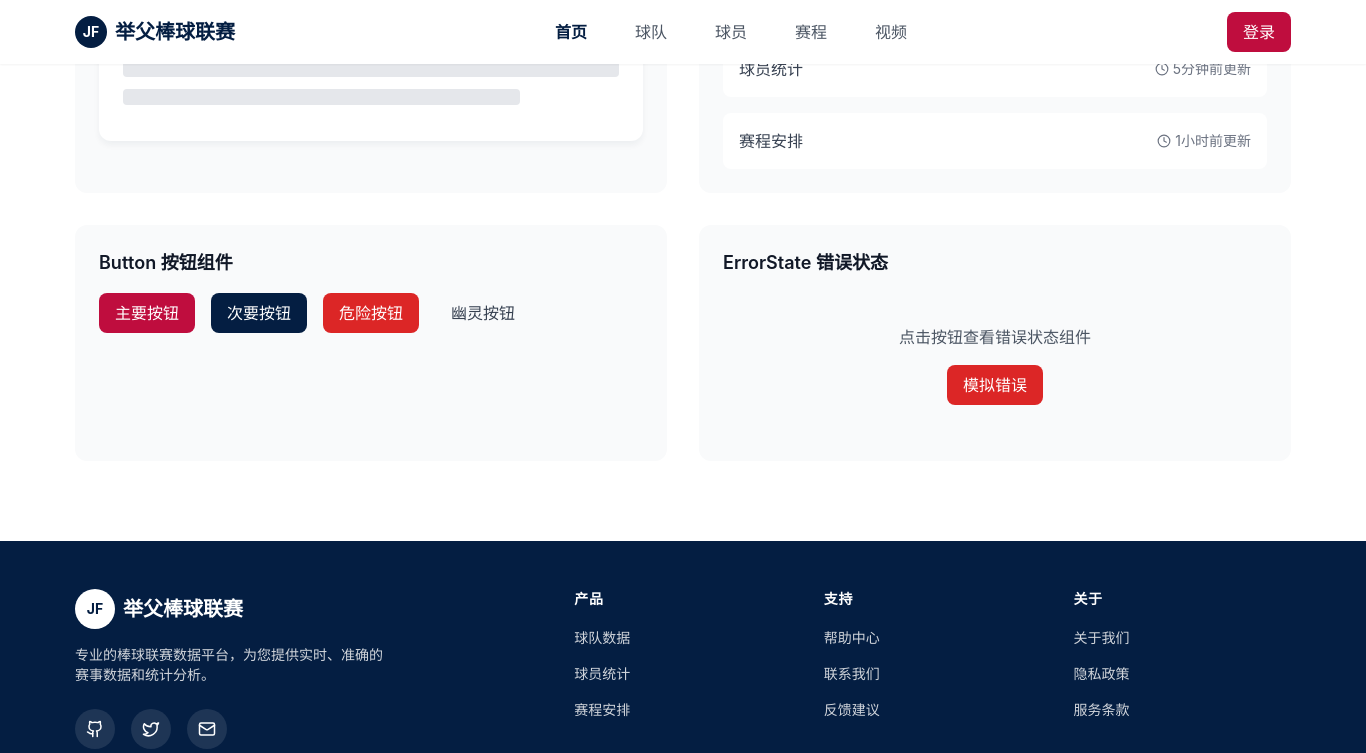
Test: HomePage › shows error state when simulate error is clicked
The width and height of the screenshot is (1366, 753).
(page scrolled)
Click the button "模拟错误": (995, 385) x1=947 y1=365 x2=1043 y2=405
(page scrolled)
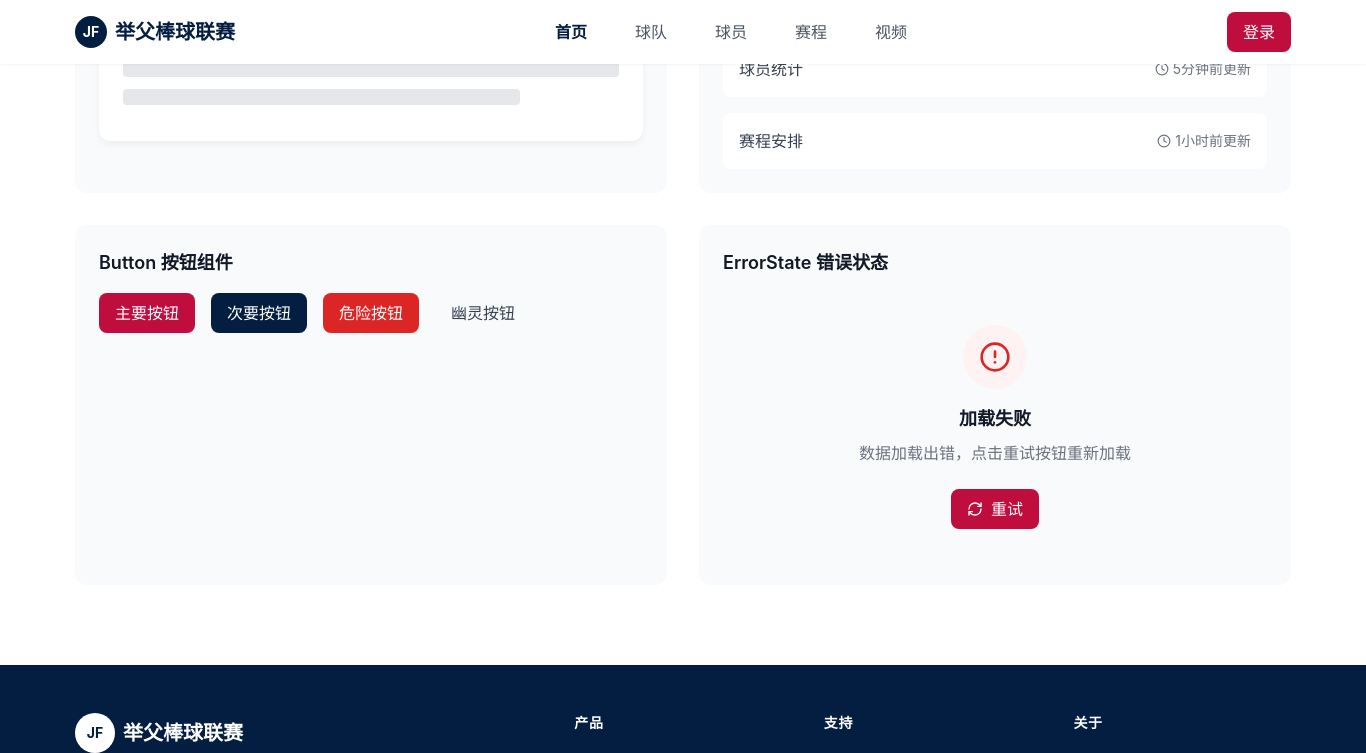
Now the heading "加载失败" is shown, box x1=959 y1=405 x2=1031 y2=433
